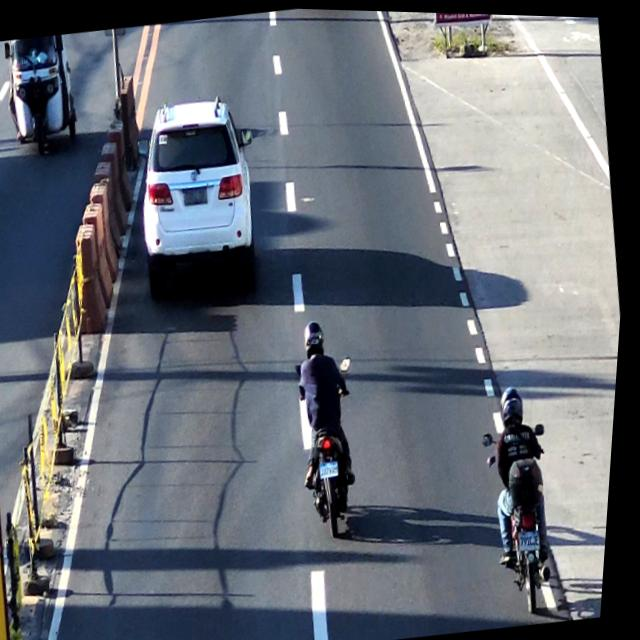Car: (127, 94, 276, 302)
License-Plate: (520, 521, 549, 549), (182, 181, 213, 206), (323, 457, 347, 478)
Motorcycle: (481, 379, 578, 617), (290, 314, 377, 535)
